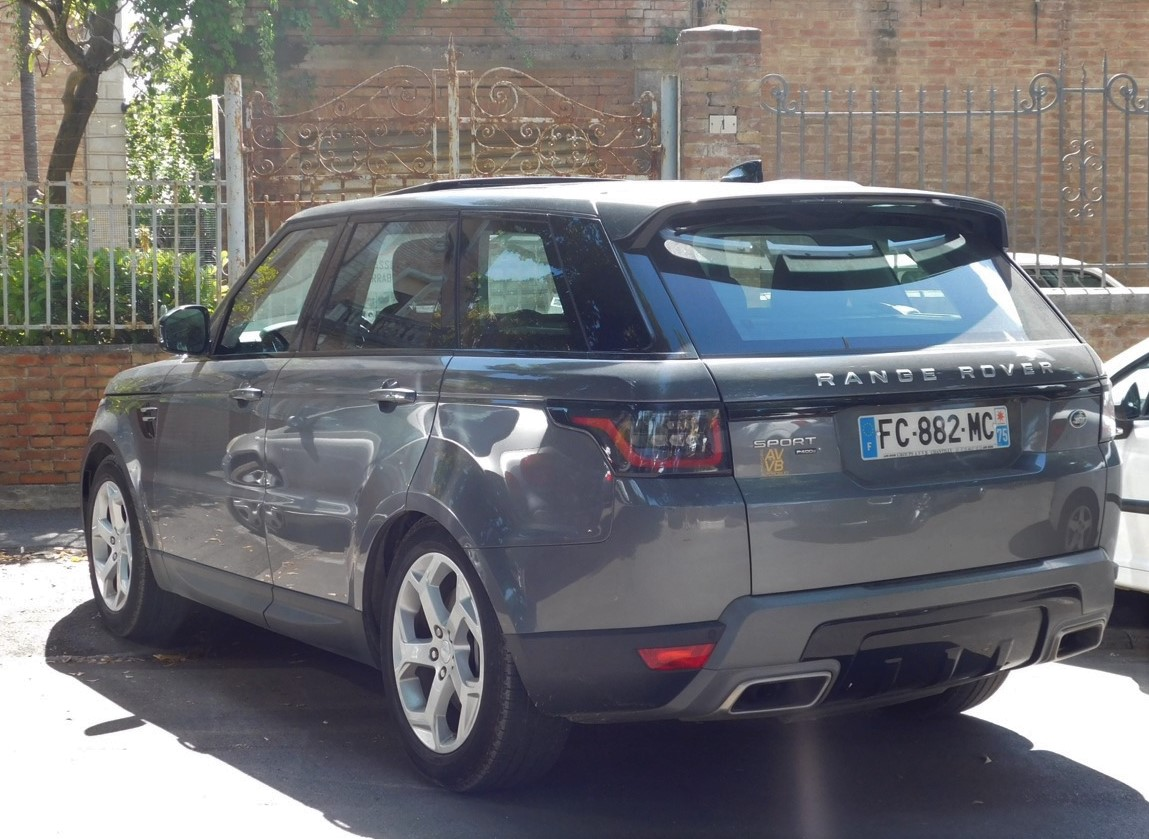licence plate: (853, 399, 1019, 464)
